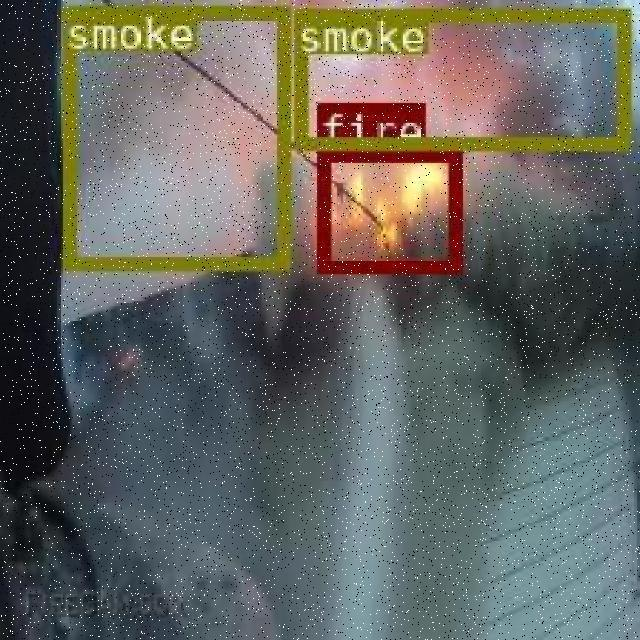Smoke: (0, 0, 221, 203), (290, 33, 619, 108)
